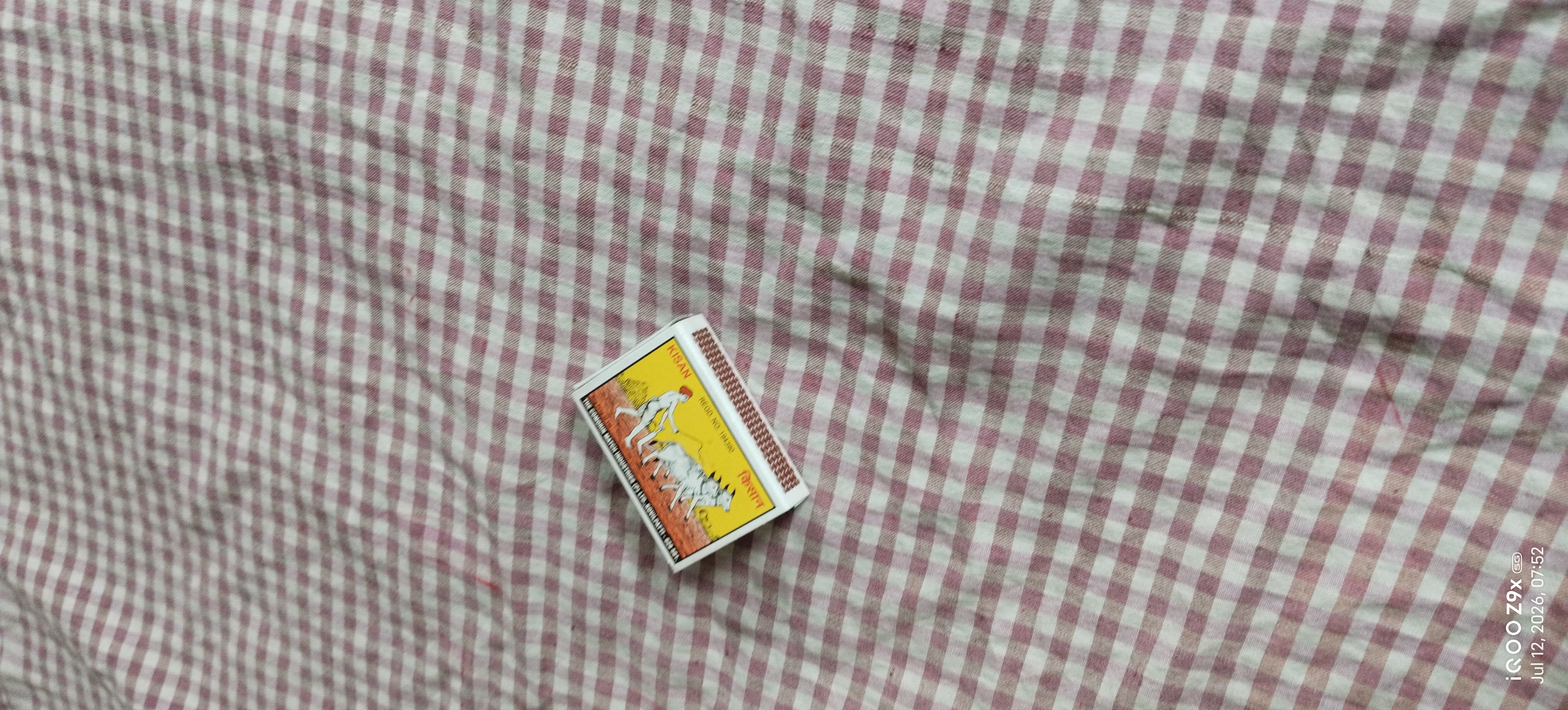matchbox: (557, 303, 815, 584)
